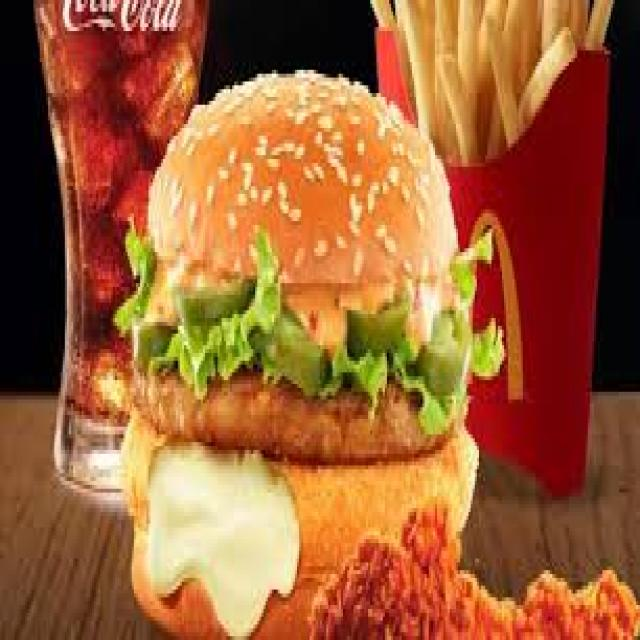햄버거: (157, 68, 481, 640)
